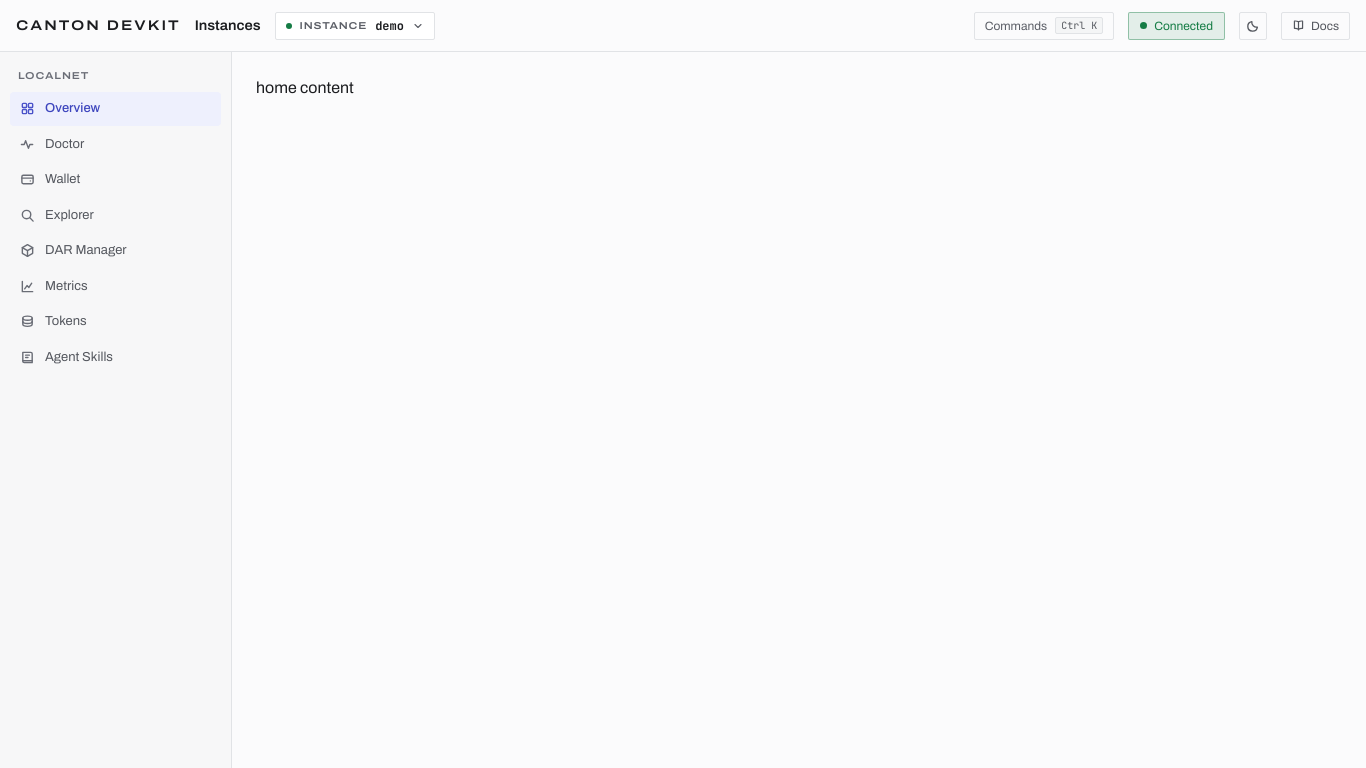
Test case: Shell — InstanceSwitcher › clicking a dropdown row switches the selection
This screenshot has width=1366, height=768.
Check: the text "demo" is shown, box x1=375 y1=18 x2=404 y2=34
Click the button "instance demo" at (355, 26), box x1=275 y1=12 x2=435 y2=40
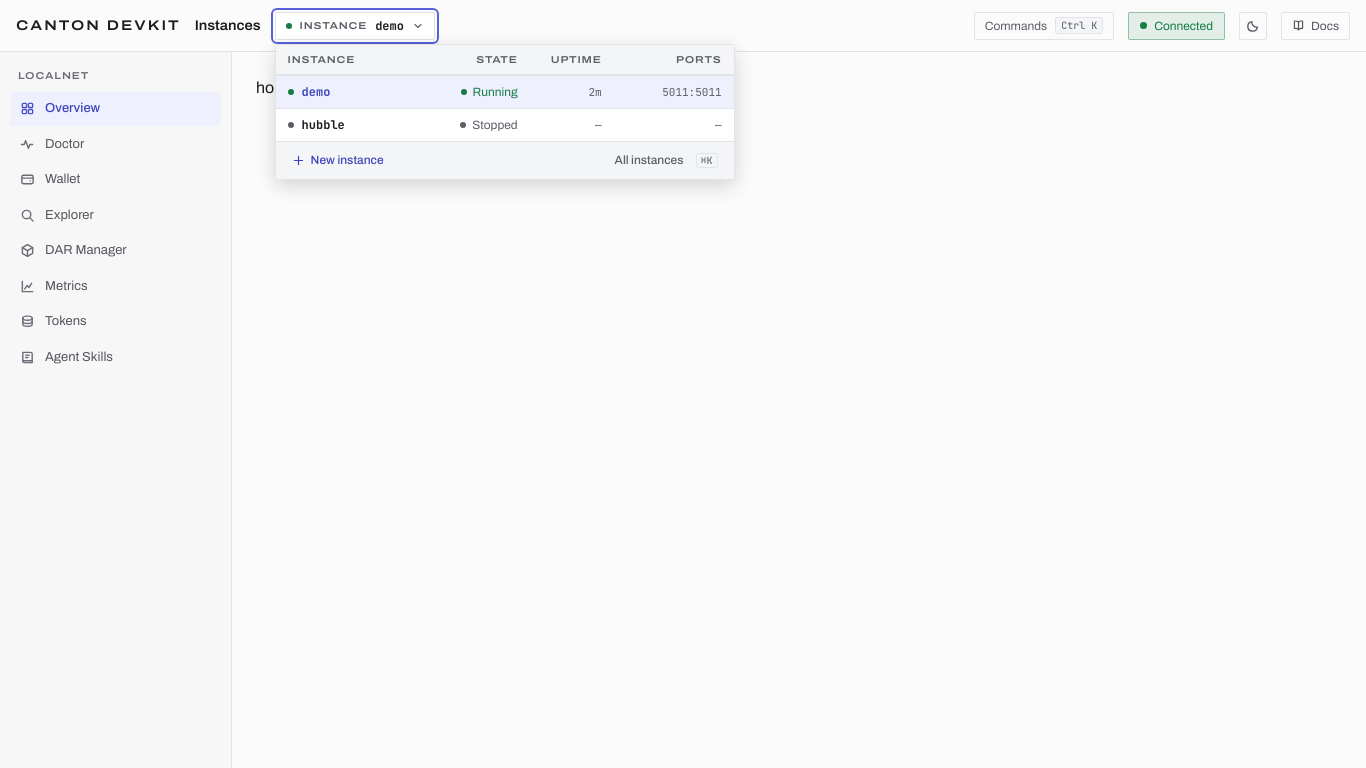
Click the option "hubble Stopped — —" at (505, 124), box x1=276 y1=108 x2=734 y2=140
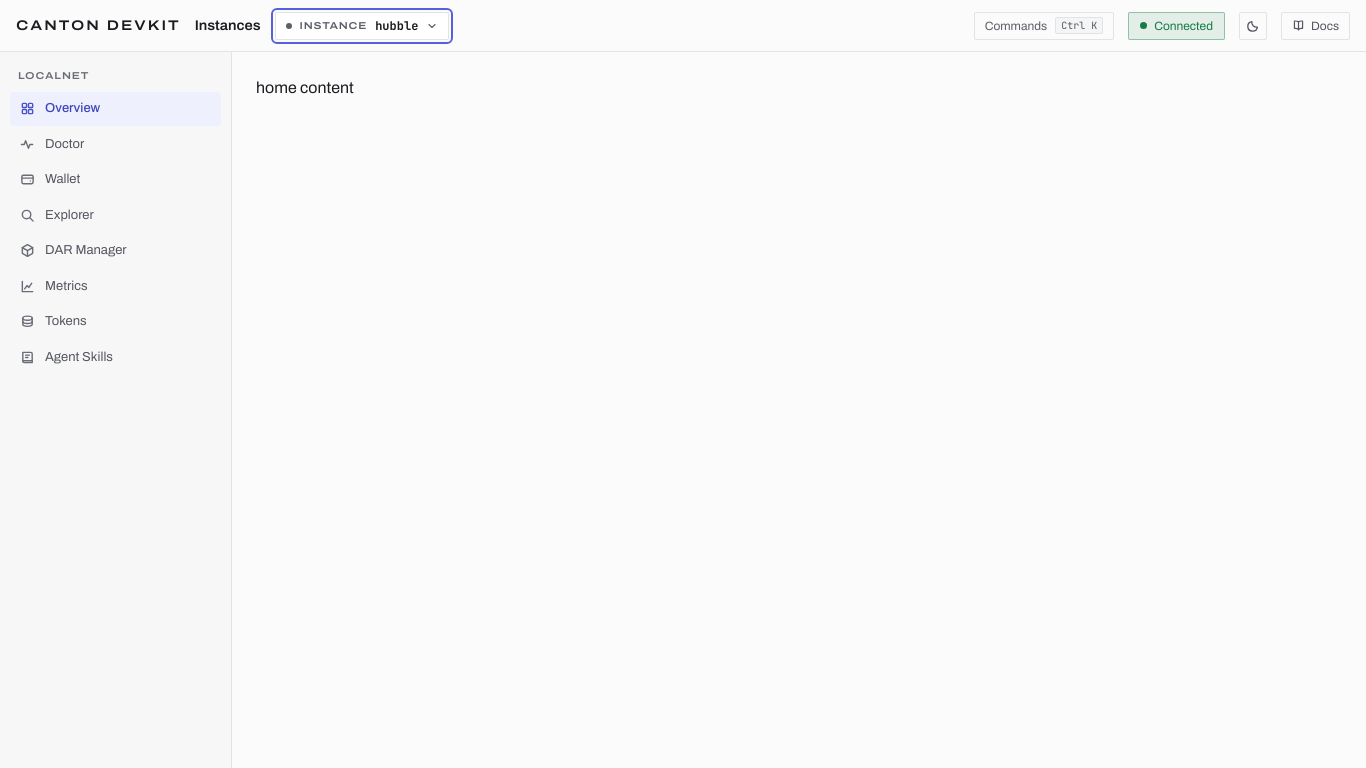
Check: the button "instance hubble" is shown, box x1=275 y1=12 x2=449 y2=40
